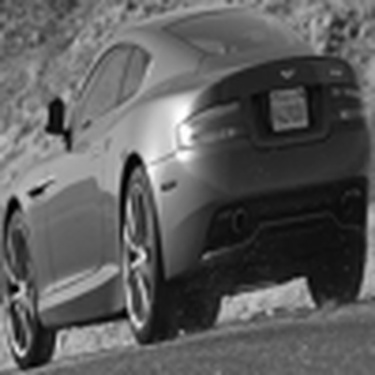car: (1, 1, 371, 373)
